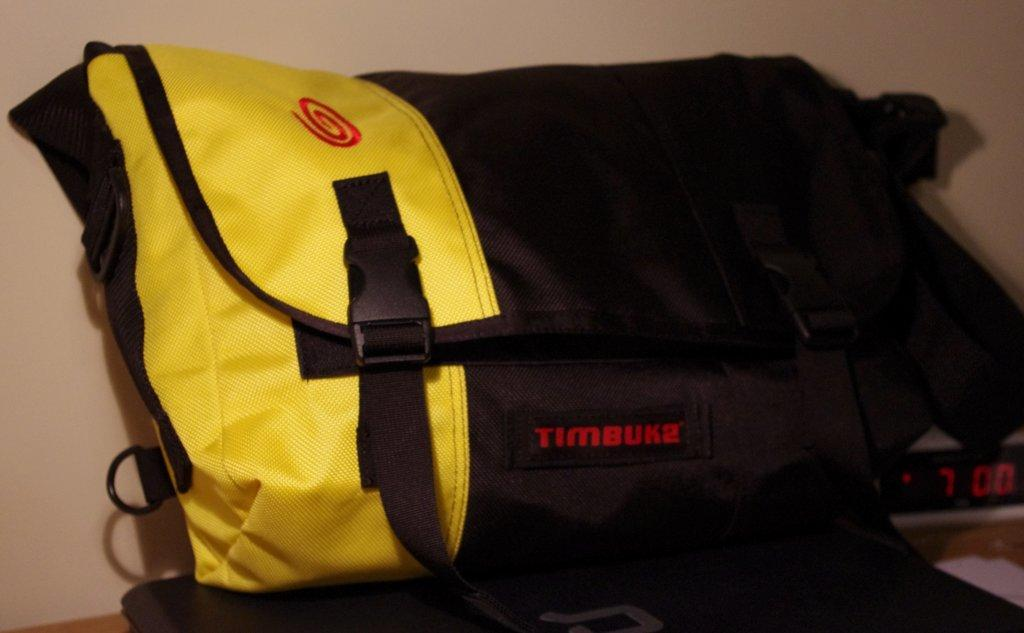Luggage-and-bags: (6, 37, 1023, 624)
